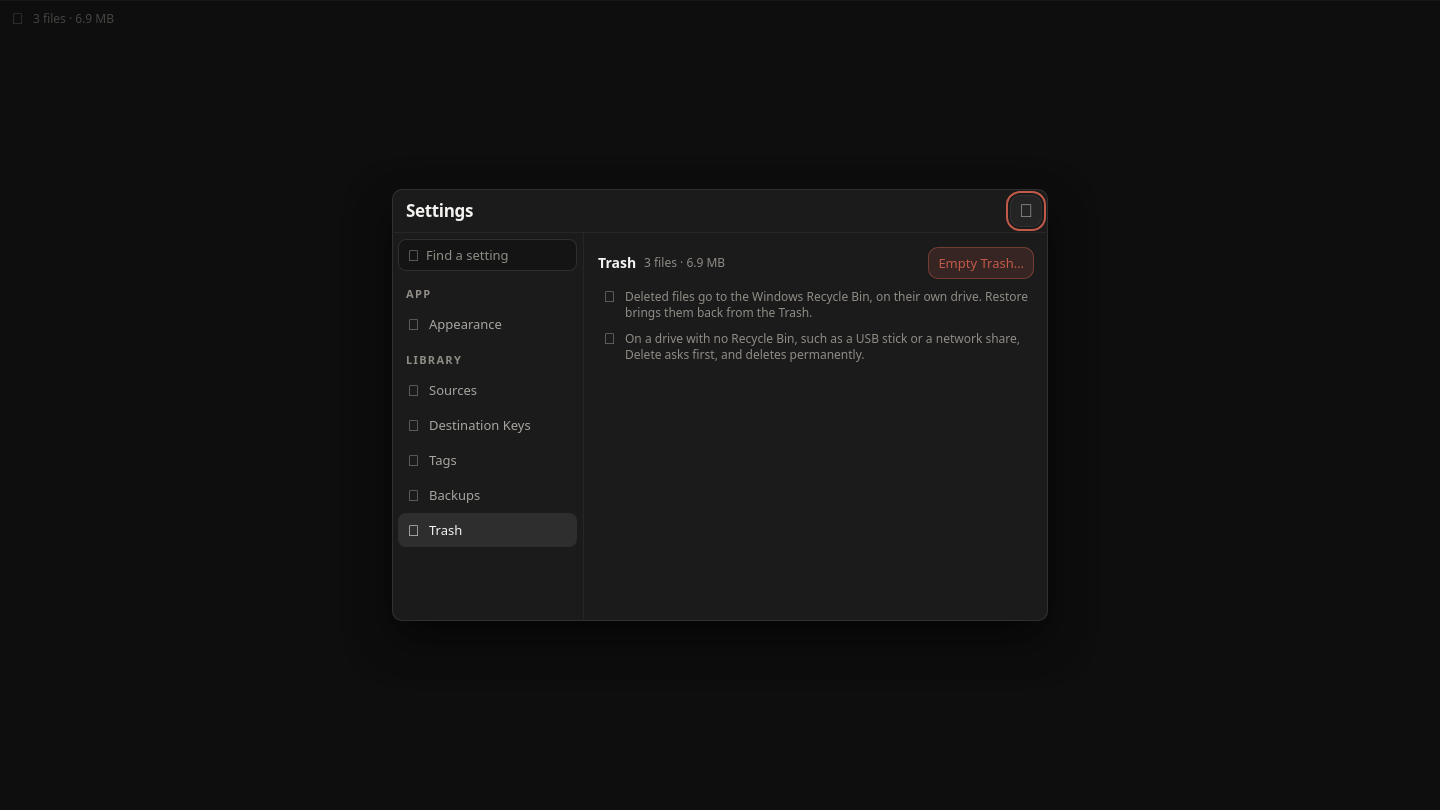
Test: files skipped are counted in a band, with Show in Trash for the one that stays
This screenshot has width=1440, height=810.
Click the button "Empty Trash…". click: (981, 263)
box: 928,247 -> 1034,279
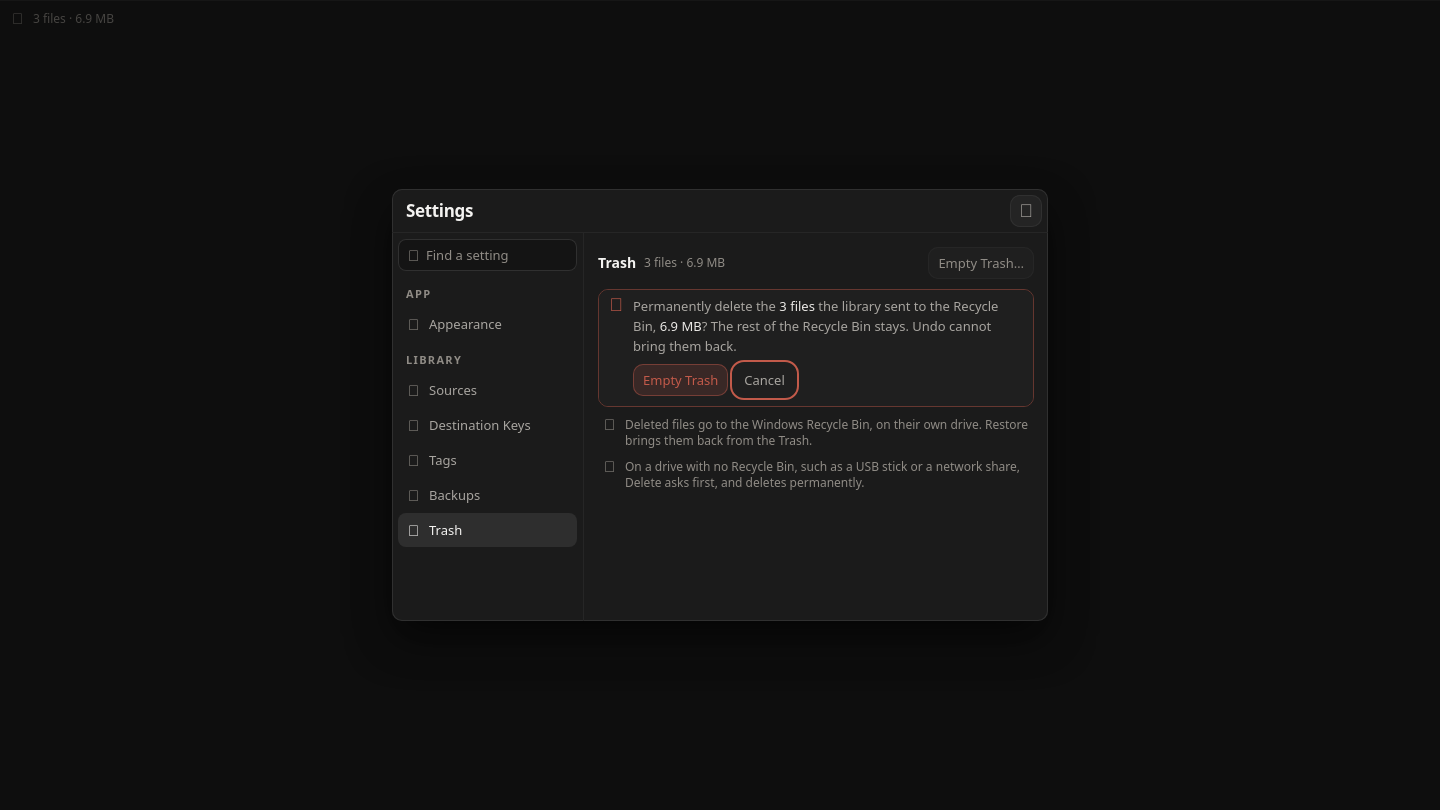
Click the button "Empty Trash". click: (681, 380)
box: 633,364 -> 728,396
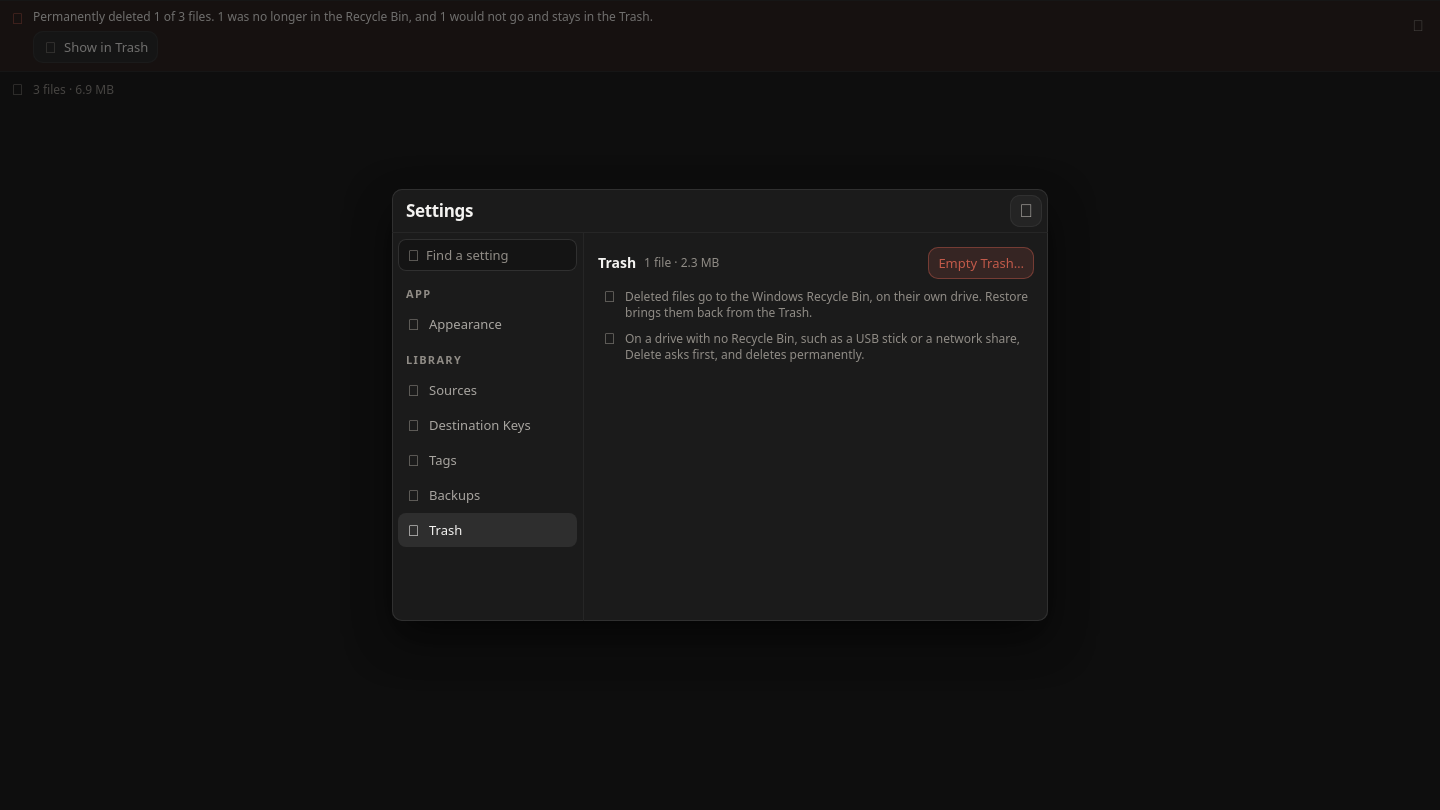
expect the button "Show in Trash" is shown: met, box 33,31 -> 158,63
